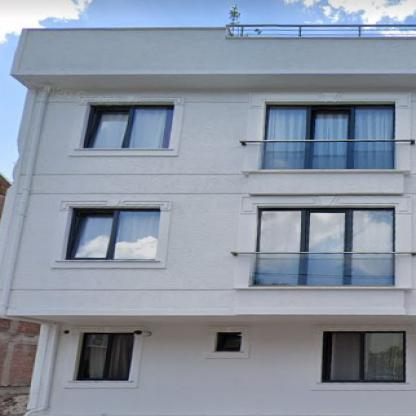window: (258, 209, 394, 252), (266, 105, 394, 139), (72, 211, 160, 259), (330, 333, 404, 381), (90, 108, 169, 148), (80, 334, 132, 380), (218, 333, 240, 350)
